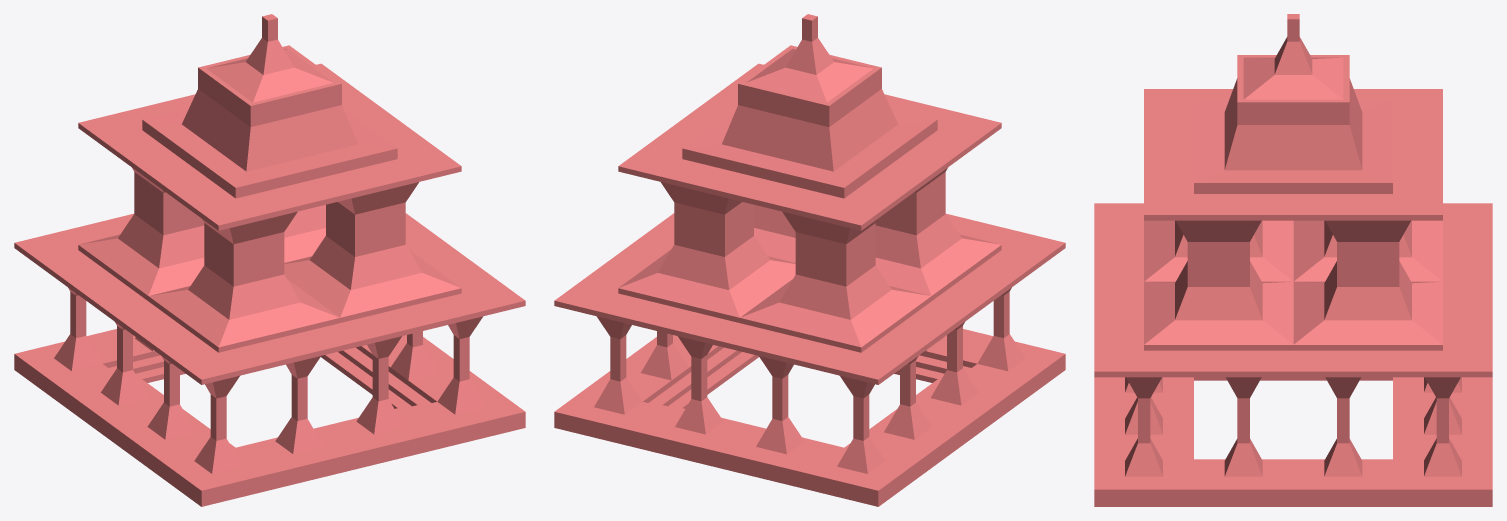
File: Folly_03.glb
3 views of the same model, side by side, from view 1: azimuth 30°, elevation 25°; view 2: azimuth 150°, elevation 25°; view 3: azimuth 270°, elevation 25° (orthographic). The views are drawn at different scales.
Visible parts, largest first — view 1: mass; view 2: mass; view 3: mass.
Boxes of the visible parts, x1,y1,x2,y2 form: mass: (14,14,525,506); mass: (554,14,1065,506); mass: (1094,14,1492,506).
Size of what is drawn, in the model's own units: 16 by 18 by 16.
